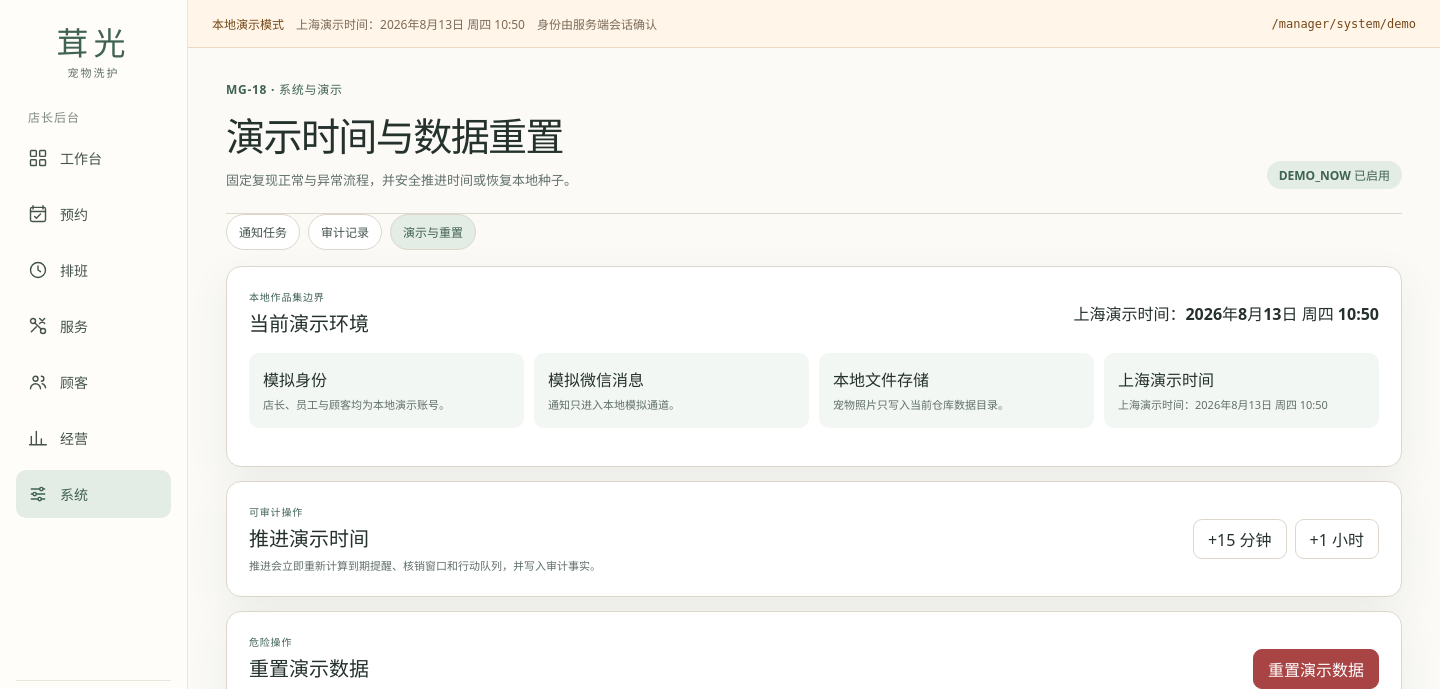
Test: MG-18 演示时间与数据重置 › 独立路由恢复当前上海演示时间，并推进时间后立即更新横条
Check: the heading "演示时间与数据重置" is shown, box [226,106,577,162]
Check: the text "上海演示时间：2026年8月13日 周四 10:50" next to "本地演示模式" is shown, box [296,16,525,32]
Click the button "+15 分钟" at (1240, 539), box [1193,519,1286,559]
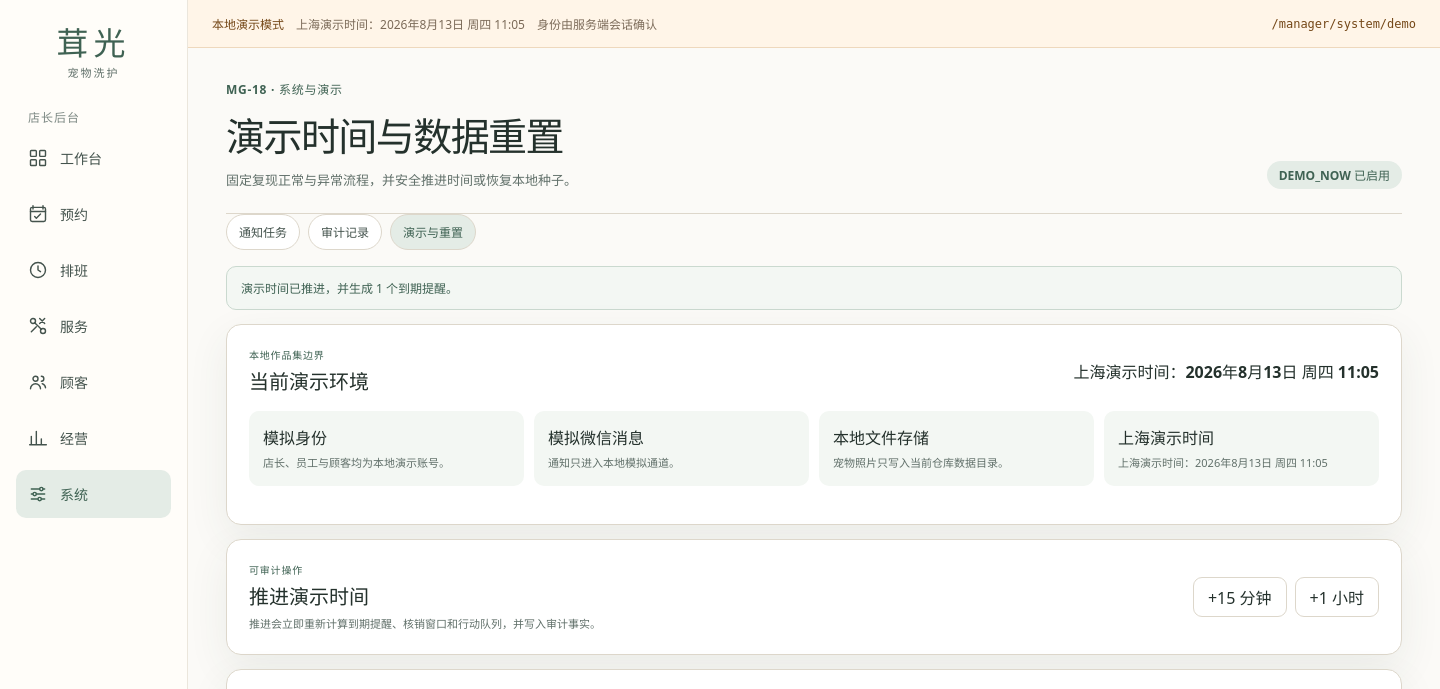
Check: the text "/manager/system/demo" is shown, box [1272,16,1416,30]
Check: the text "演示时间已推进，并生成 1 个到期提醒。" is shown, box [226,266,1402,310]
Check: the text "上海演示时间：2026年8月13日 周四 11:05" next to "本地演示模式" is shown, box [296,16,525,32]
